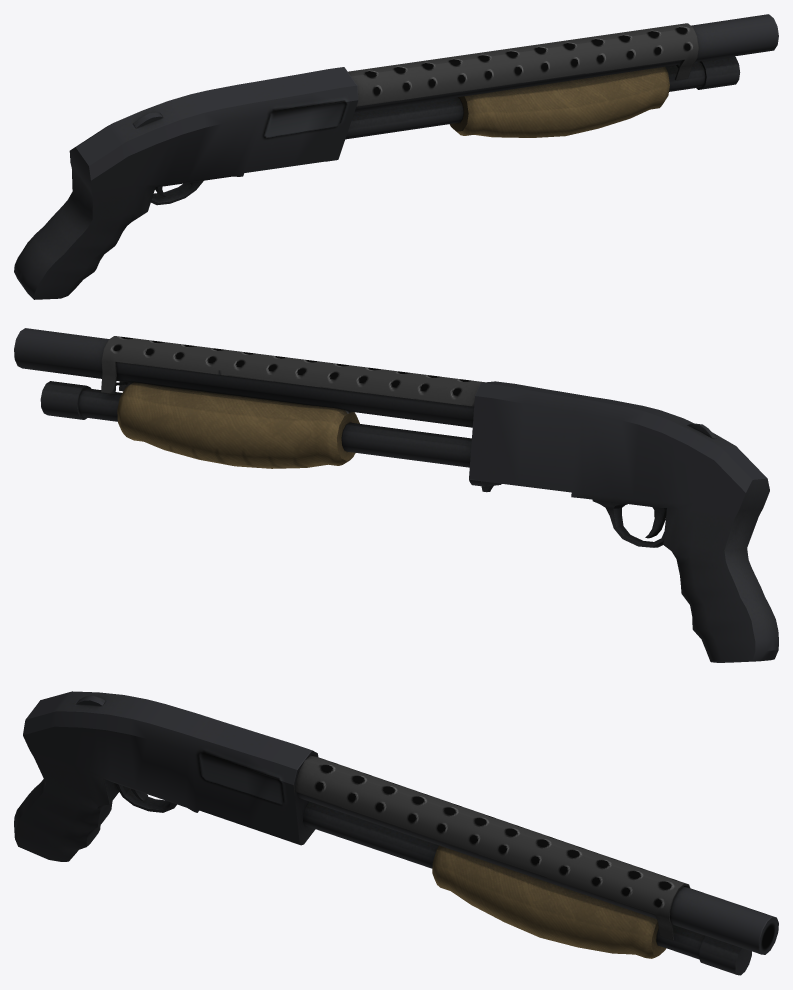
Rendered from shotgun_000030.obj.
The picture shows the model from 3 angles, top to bottom: view 1: azimuth 30°, elevation 25°; view 2: azimuth 150°, elevation 25°; view 3: azimuth 330°, elevation 25°; orthographic projection. The views are drawn at different scales.
Parts seen in each view (by area): view 1: mesh_Cube.001; view 2: mesh_Cube.001; view 3: mesh_Cube.001.
Boxes of the visible parts, left/top/right/bottom form: mesh_Cube.001: left=14, top=14, right=778, bottom=299; mesh_Cube.001: left=14, top=328, right=778, bottom=662; mesh_Cube.001: left=14, top=691, right=778, bottom=975.
Size of the model in its own units: 1.93 by 0.4878 by 0.2519.
Materials: 1 (1 with a texture image).
